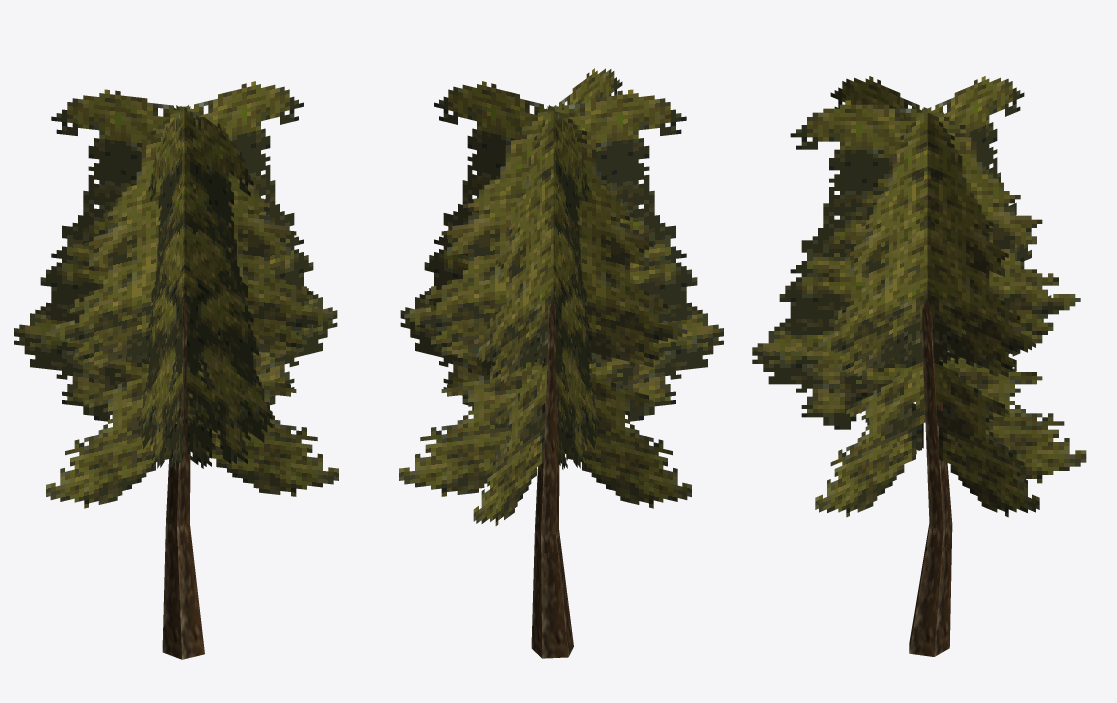
Rendered from tree_03.glb.
The picture shows the model from 3 angles, left to right: view 1: azimuth 30°, elevation 25°; view 2: azimuth 150°, elevation 25°; view 3: azimuth 270°, elevation 25°; orthographic projection.
Parts seen in each view (by area): view 1: tree_03; view 2: tree_03; view 3: tree_03.
Boxes of the visible parts, x1,y1,x2,y2 form: tree_03: [14, 81, 338, 659]; tree_03: [399, 68, 723, 658]; tree_03: [752, 76, 1086, 656].
Size of the model in its own units: 1.12 by 1.98 by 1.12.
2 materials, 2 textured.
